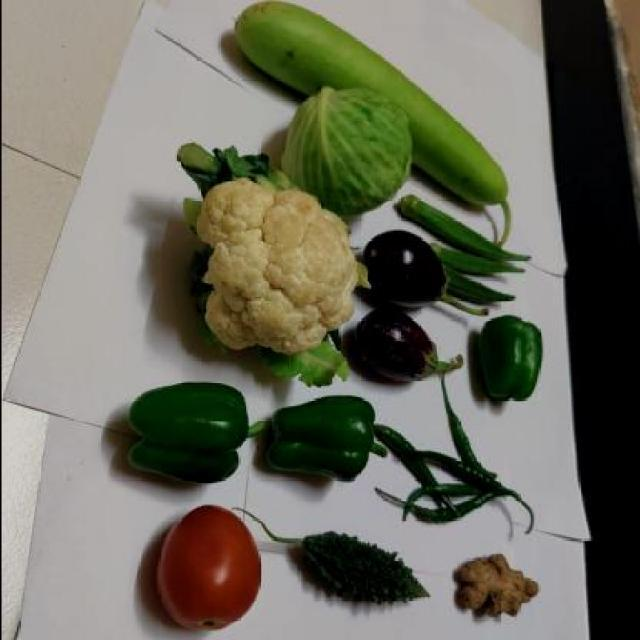Bitter melon: (263, 514, 432, 628)
Brinjal: (363, 234, 483, 318), (356, 310, 462, 384)
Cabbage: (289, 86, 406, 214)
Capsicum: (122, 378, 250, 484), (266, 392, 388, 483), (475, 314, 543, 400)
Cauliflower: (190, 178, 352, 371)
Ginger: (449, 552, 538, 630)
Green Chili: (371, 418, 534, 528)
Tomato: (156, 501, 262, 634)
